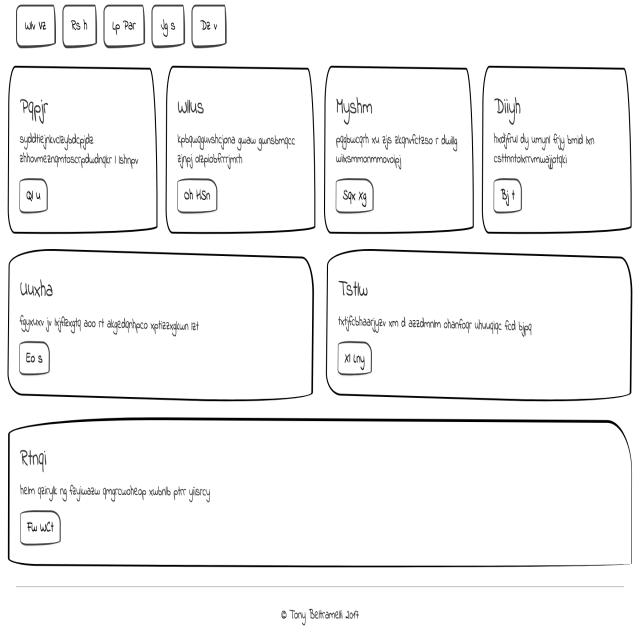Button: (173, 173, 223, 216), (336, 337, 377, 381), (15, 339, 59, 378), (486, 175, 528, 213), (16, 520, 73, 546), (336, 180, 377, 215), (16, 180, 51, 217)
Card: (7, 428, 634, 574), (3, 250, 306, 408), (319, 256, 634, 404), (482, 58, 634, 236), (327, 60, 472, 240), (6, 69, 159, 238), (168, 59, 314, 236)
Footer: (5, 583, 640, 640)
Heading 6: (335, 84, 381, 121), (175, 87, 217, 122), (18, 92, 62, 120), (494, 82, 525, 118), (16, 274, 60, 299), (15, 442, 53, 468), (334, 279, 378, 299)
Navigation Bar: (2, 0, 230, 50)
Paragraph: (11, 470, 230, 502), (329, 309, 539, 336), (172, 127, 298, 171), (14, 308, 218, 335), (332, 128, 461, 170), (14, 130, 146, 167), (493, 130, 606, 173)
